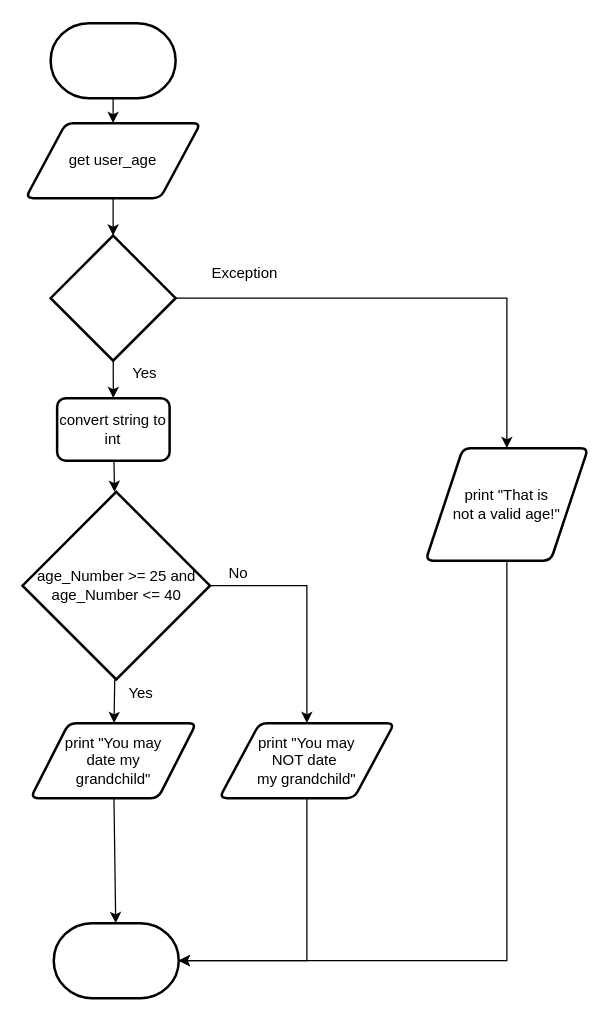
Image size: 611x1020. Some labels were removed from this diagram. The box of each missing label's shape, as (x1, y1, x2, y2) in pixels:
Start: (49, 21, 176, 99)
Stop: (52, 921, 179, 999)
Try: (49, 234, 176, 361)
